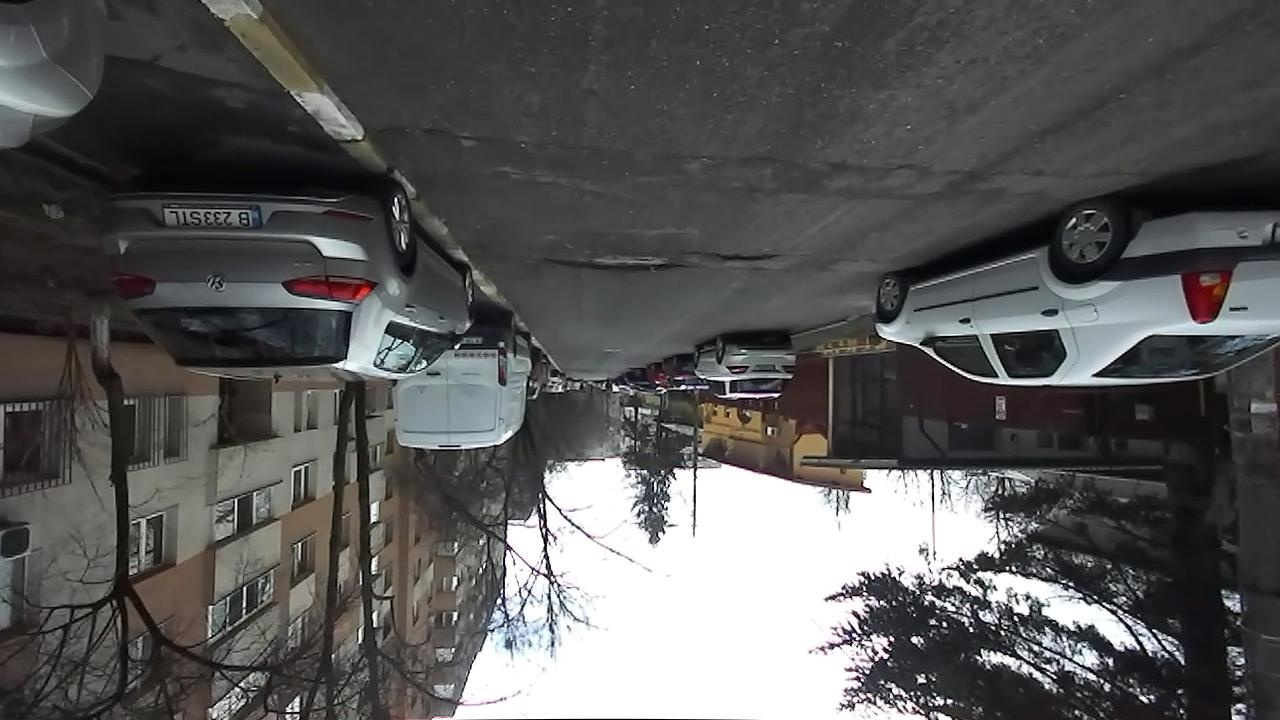pothole: (539, 249, 688, 274), (374, 115, 485, 144), (696, 250, 781, 264)
